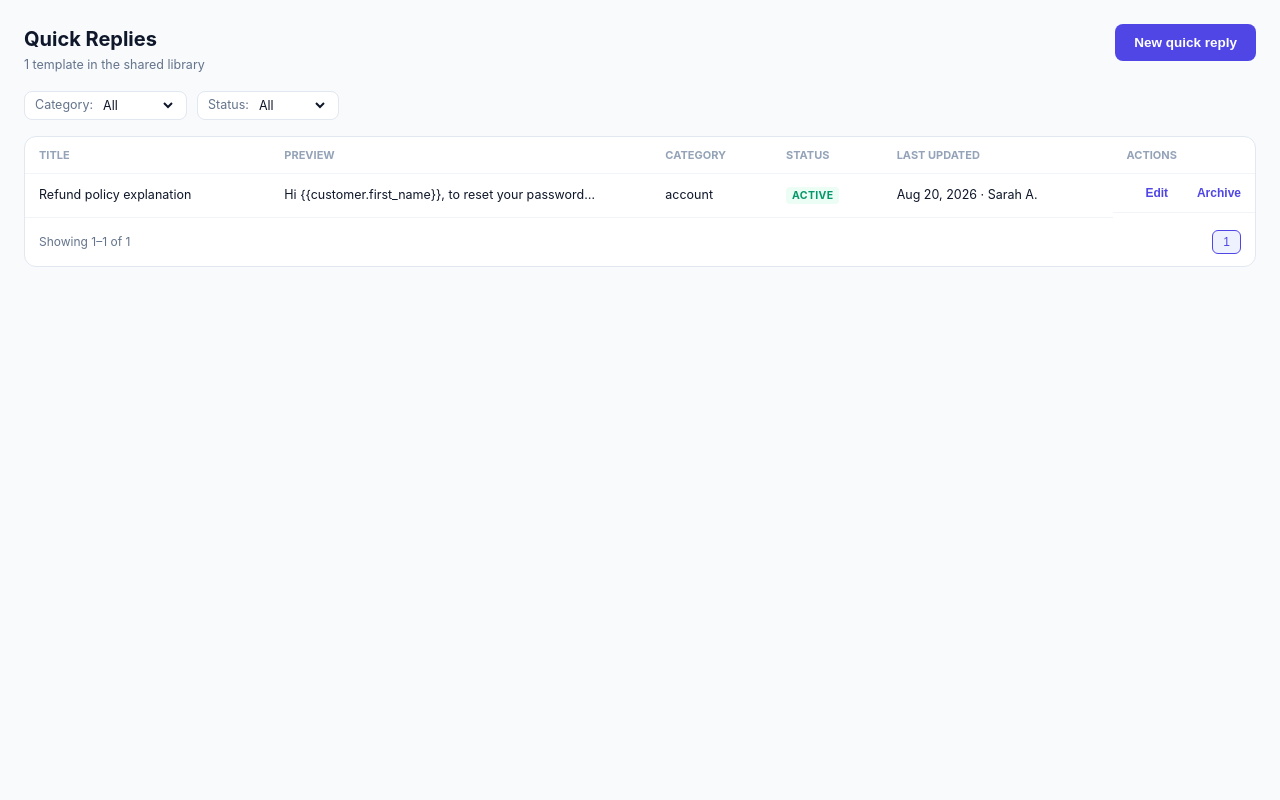
Test case: QuickRepliesPage › names the specific template in the archive confirmation
Click the button "Archive". click: (1219, 193)
box: [1197,186,1241,200]
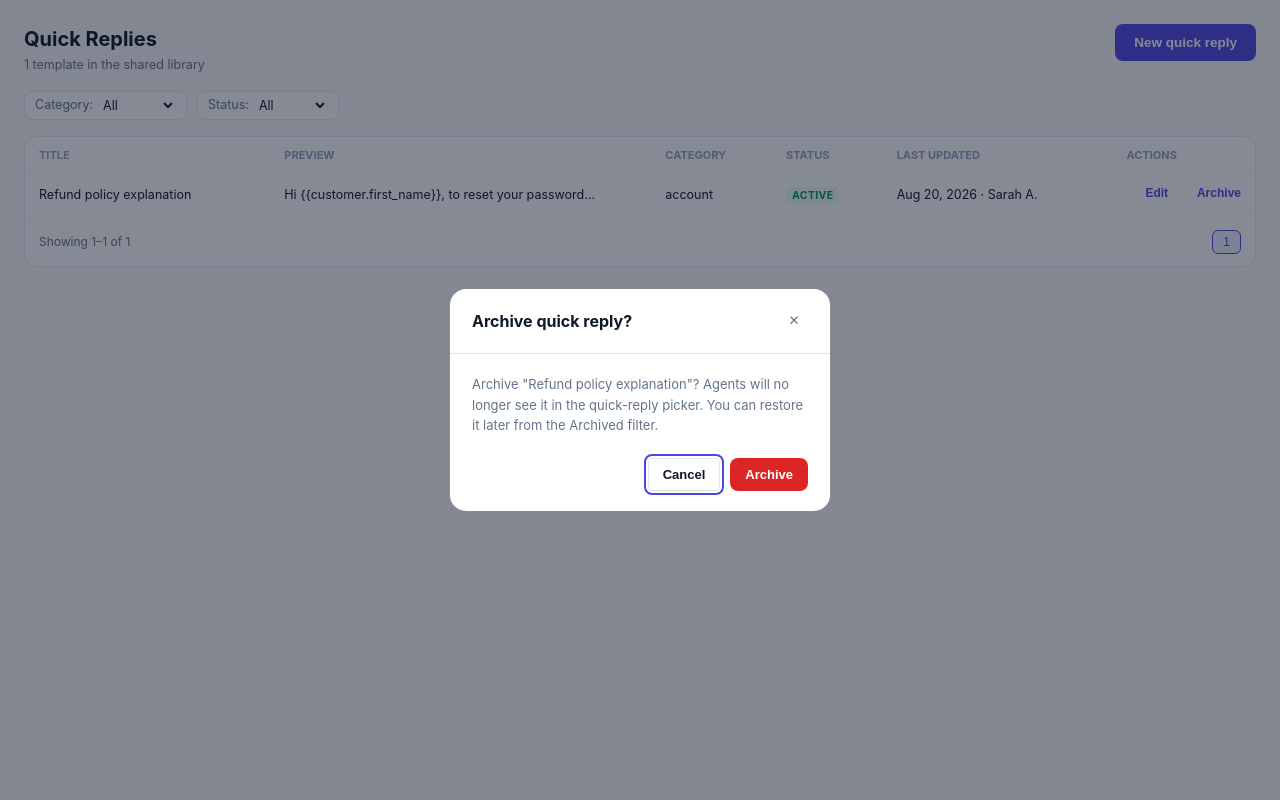
Check: the text "Archive \"Refund policy explanation\"?" is shown, box [472,376,803,433]
